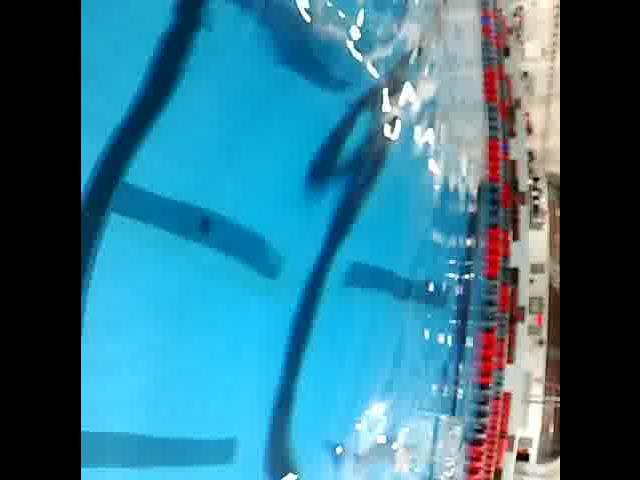Bottle: (417, 405, 473, 480)
